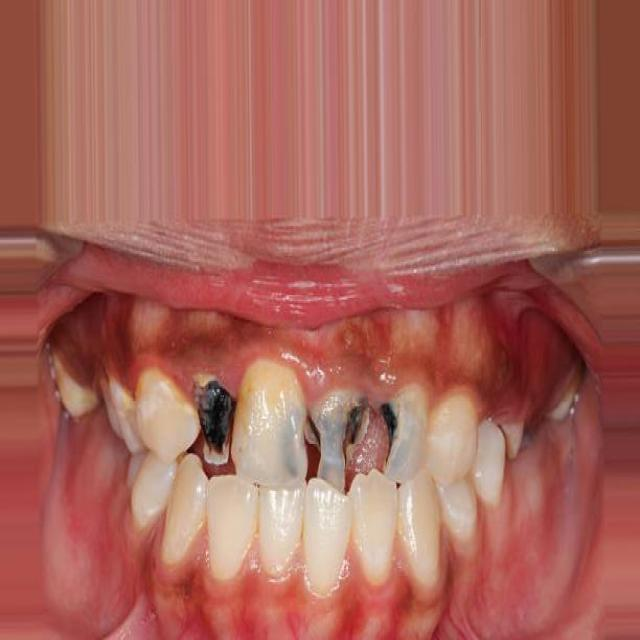caries: (304, 385, 374, 492), (189, 366, 240, 474), (378, 380, 428, 484)
